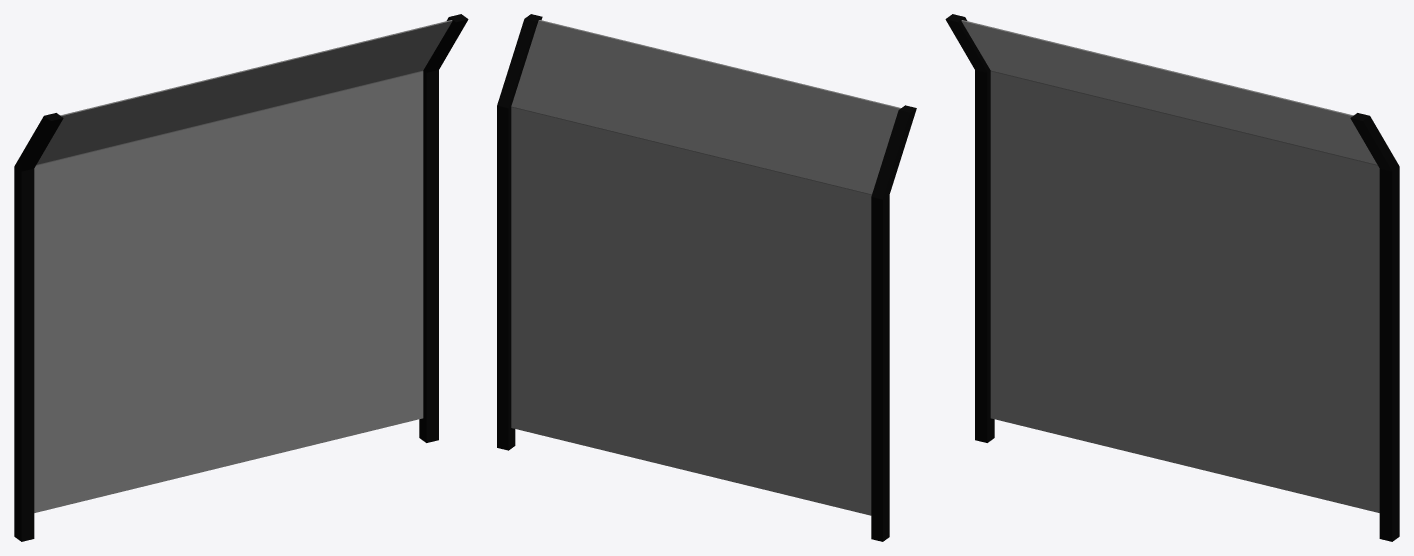
Rendered from safetynet.FBX.
The picture shows the model from 3 angles, left to right: view 1: azimuth 30°, elevation 25°; view 2: azimuth 150°, elevation 25°; view 3: azimuth 330°, elevation 25°; orthographic projection. The views are drawn at different scales.
Visible parts, largest first — view 1: safetynet; view 2: safetynet; view 3: safetynet.
Boxes of the visible parts, x1,y1,x2,y2 form: safetynet: (14,14,468,541); safetynet: (497,14,916,541); safetynet: (945,14,1399,541).
Bounding box in the file's own units: 317 × 321 × 48.37.
